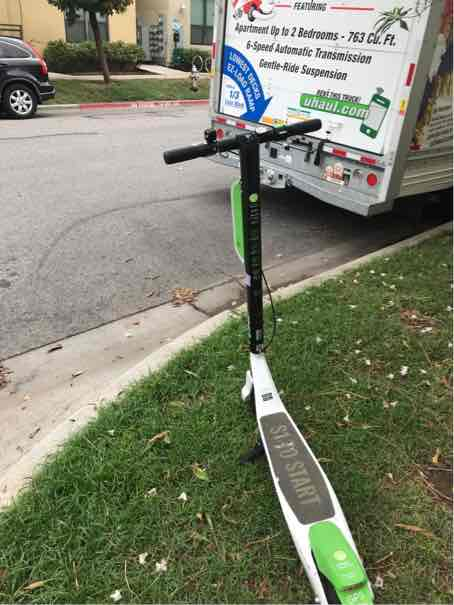scooter: (157, 121, 382, 598)
